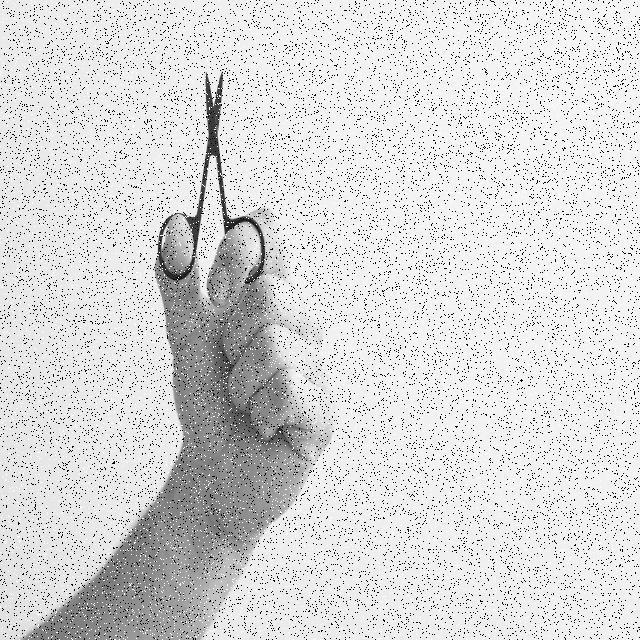scissors: (153, 63, 267, 290)
